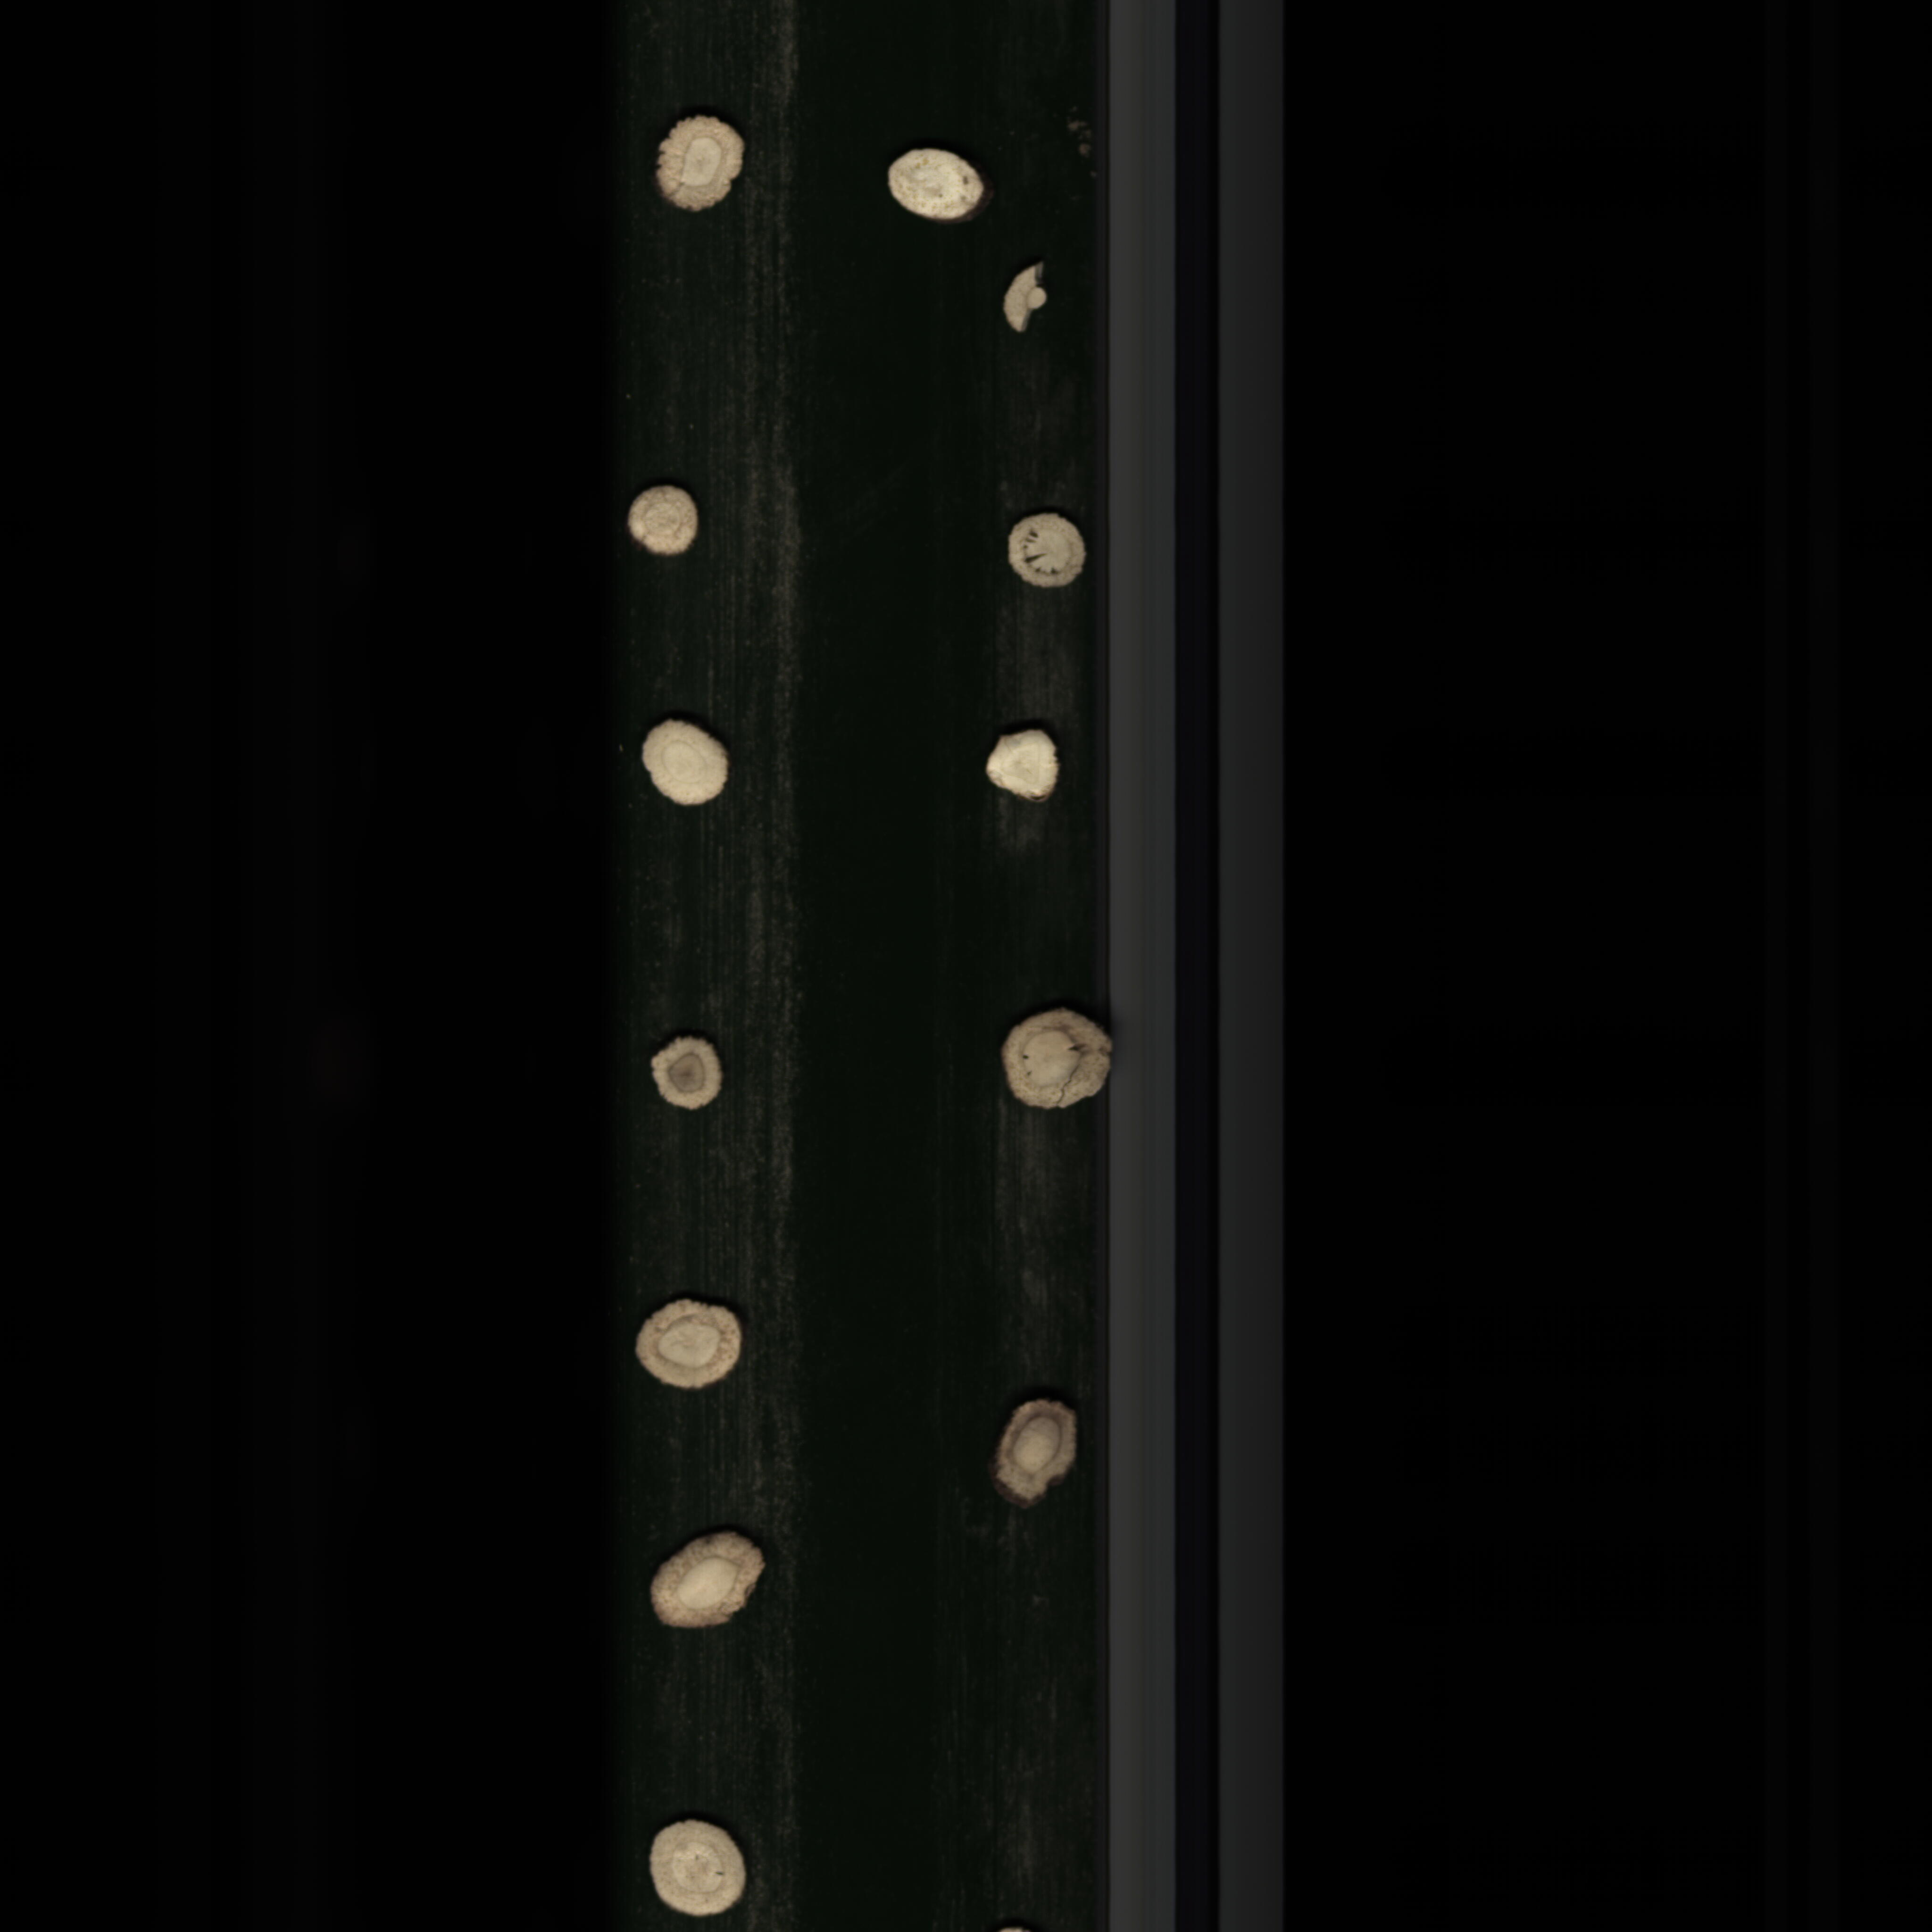debris: (996, 255, 1063, 343)
hole: (985, 1001, 1123, 1125), (1003, 508, 1095, 600)
moldy: (635, 1031, 724, 1120)
